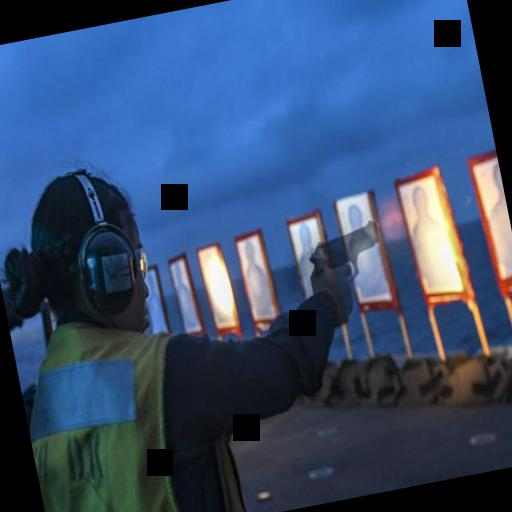Handgun: (299, 217, 390, 294)
